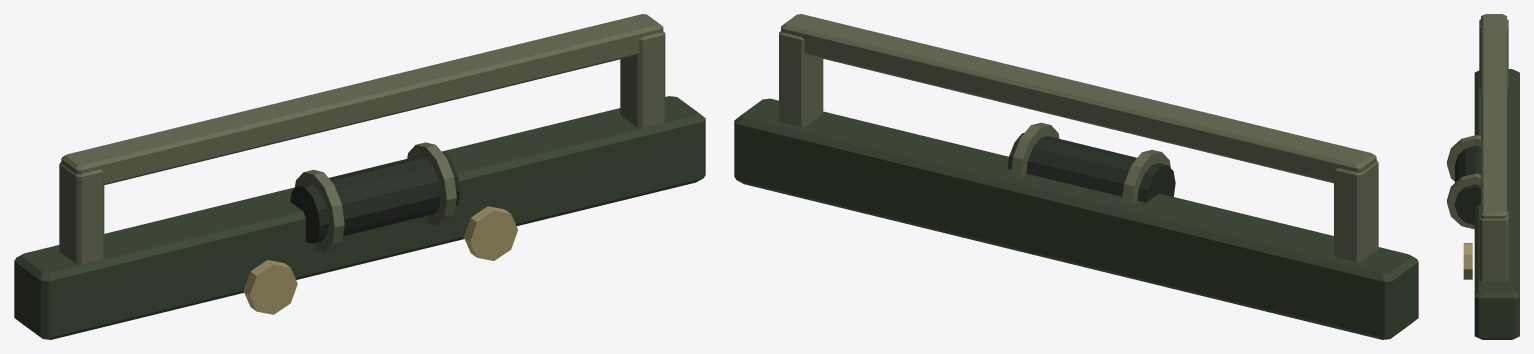
Rendered from bumper.obj.
3 views of the same model, side by side, from view 1: azimuth 30°, elevation 25°; view 2: azimuth 150°, elevation 25°; view 3: azimuth 270°, elevation 25° (orthographic). The views are drawn at different scales.
Parts seen in each view (by area): view 1: BASE.013; view 2: BASE.013; view 3: BASE.013.
Part boxes in pixels (x1=…): BASE.013: x1=14, y1=14, x2=705, y2=339; BASE.013: x1=734, y1=14, x2=1418, y2=339; BASE.013: x1=1447, y1=14, x2=1519, y2=339.
Bounding box in the file's own units: 3.32 × 0.87 × 0.45.
Materials: 1 (1 with a texture image).
